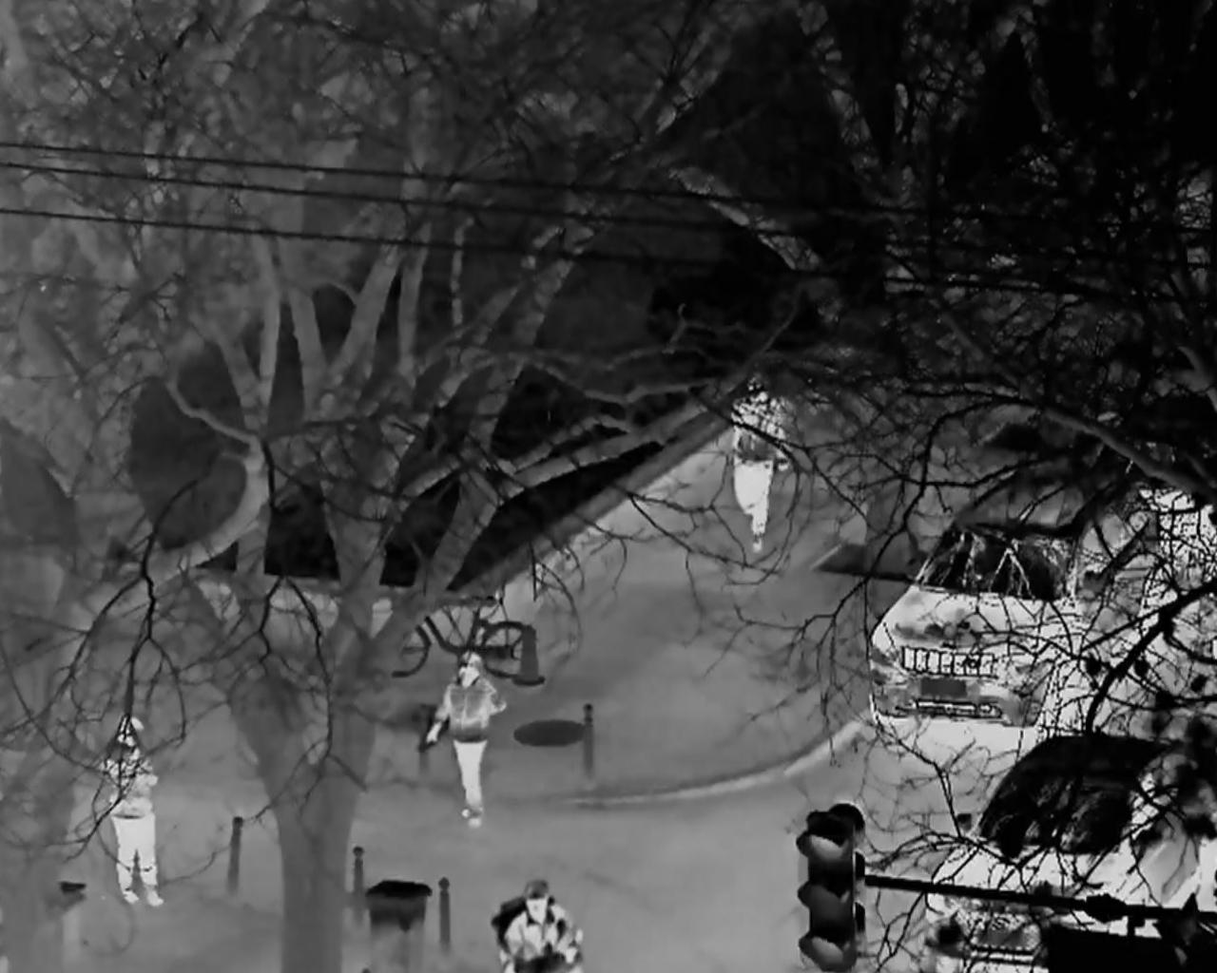person: (423, 649, 509, 827), (104, 714, 168, 906), (732, 375, 790, 551), (494, 878, 584, 973)
